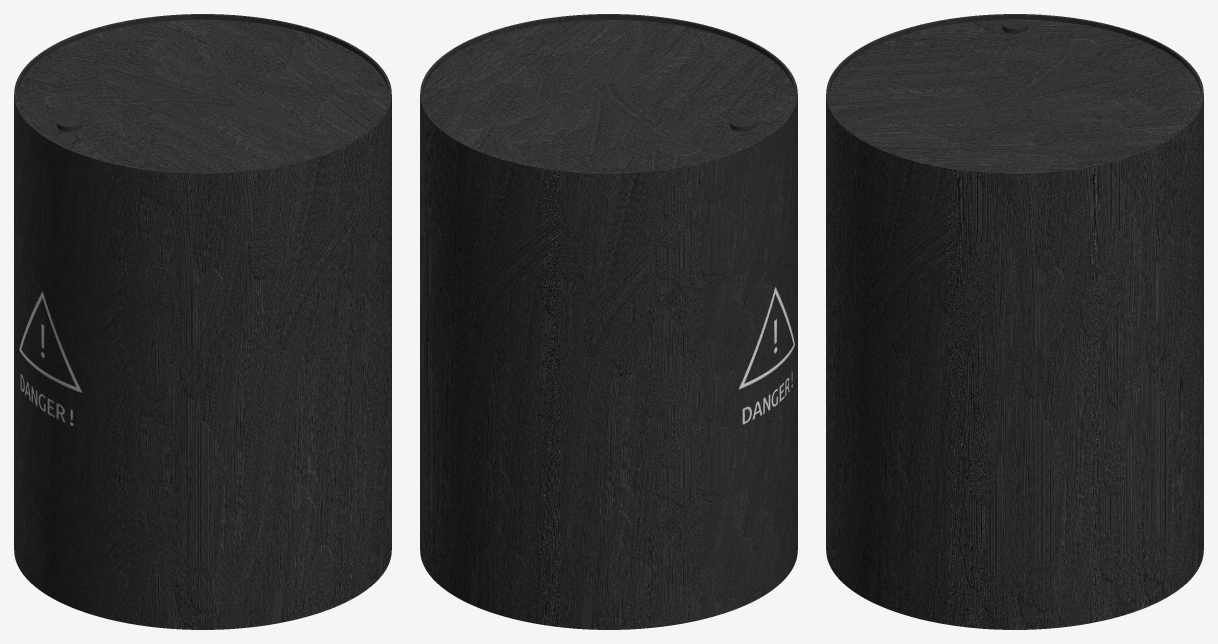
Rendered from DangerBarrel.fbx.
The picture shows the model from 3 angles, left to right: view 1: azimuth 30°, elevation 25°; view 2: azimuth 150°, elevation 25°; view 3: azimuth 270°, elevation 25°; orthographic projection.
Visible parts, largest first — view 1: node_id4 (×2); view 2: node_id4 (×2); view 3: node_id4.
Part boxes in pixels (bbox=[...]): node_id4 (×2): bbox=[14, 14, 391, 629]; node_id4 (×2): bbox=[420, 14, 797, 629]; node_id4: bbox=[826, 14, 1203, 629].
Size of the model in its own units: 0.3802 by 0.512 by 0.3802.
Materials: 4 (3 with a texture image).
